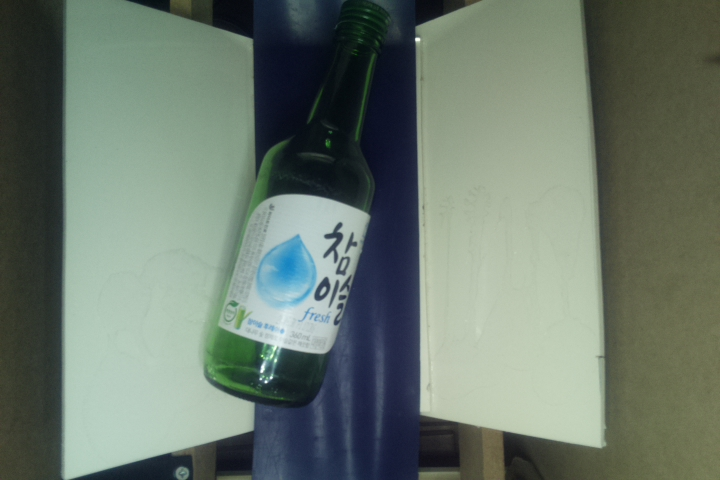soju: (202, 1, 390, 406)
